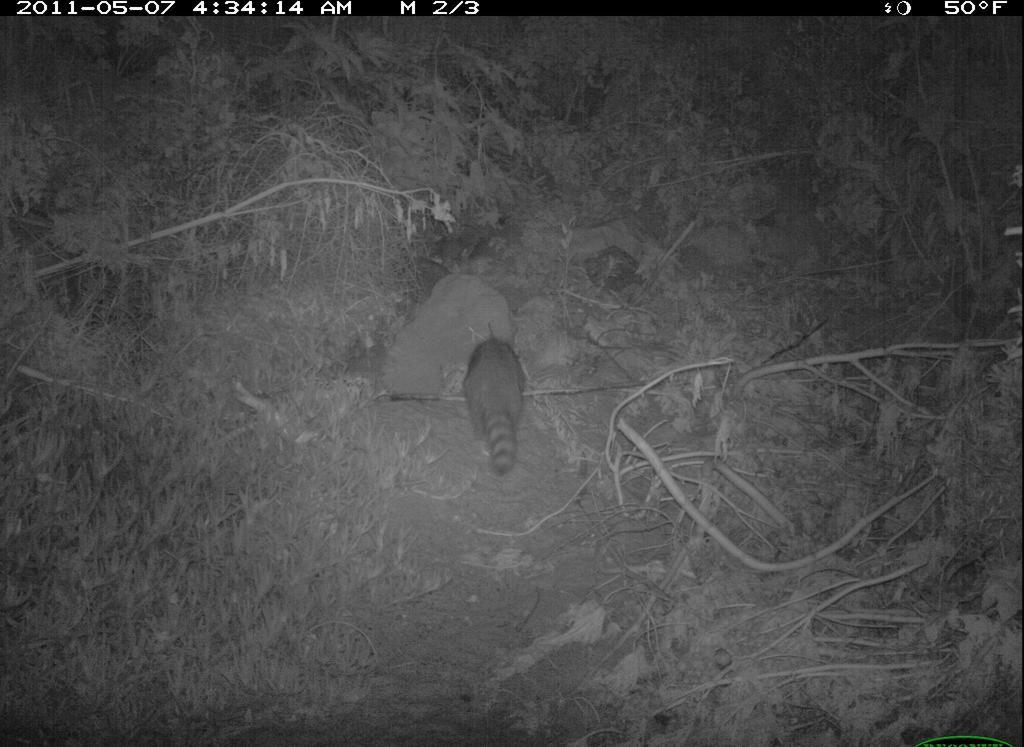raccoon: (455, 319, 542, 488)
